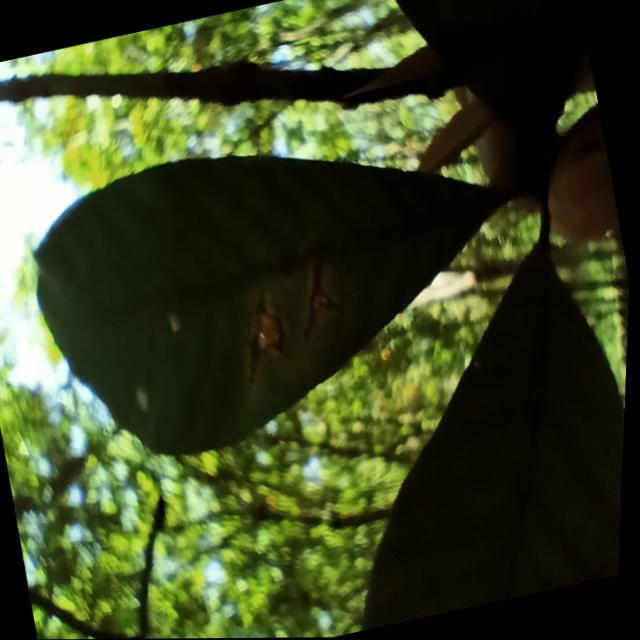Corynespora: (232, 291, 299, 386), (289, 251, 351, 339)
